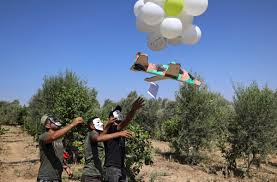Balloon: (138, 3, 162, 24), (160, 17, 181, 38), (180, 25, 201, 44), (182, 1, 208, 16), (147, 31, 165, 50), (164, 1, 182, 16)
